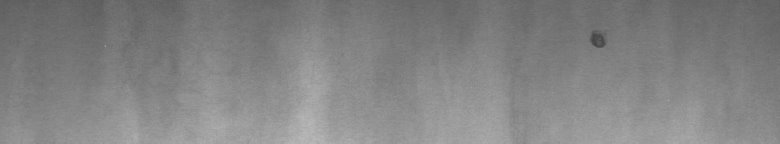fi: (585, 27, 608, 56)
